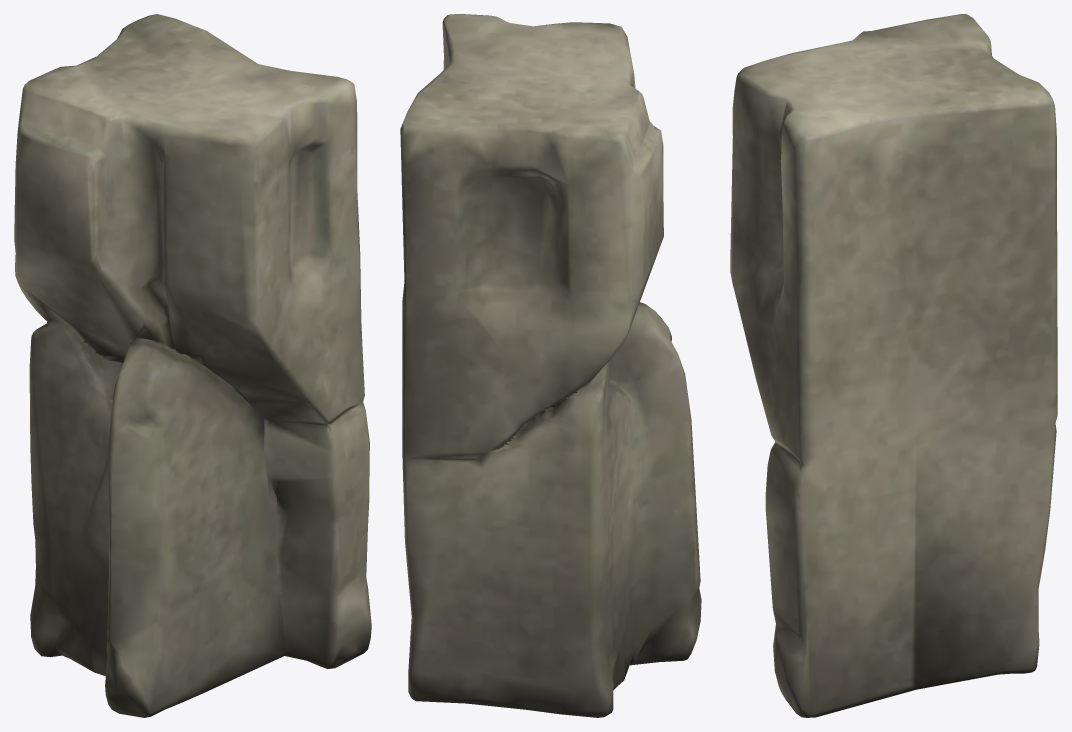
The model's file is ornate-limestone-wall-section-v001.glb.
3 views of the same model, side by side, from view 1: azimuth 30°, elevation 25°; view 2: azimuth 150°, elevation 25°; view 3: azimuth 270°, elevation 25° (orthographic). The views are drawn at different scales.
Parts seen in each view (by area): view 1: ornate-limestone-wall-section; view 2: ornate-limestone-wall-section; view 3: ornate-limestone-wall-section.
Part boxes in pixels (x1,y1,x2,y2): ornate-limestone-wall-section: (14,14,371,717); ornate-limestone-wall-section: (400,14,701,717); ornate-limestone-wall-section: (730,14,1057,717).
Size of the model in its own units: 0.4869 by 0.9588 by 0.4879.
Materials: 1 (1 with a texture image).
